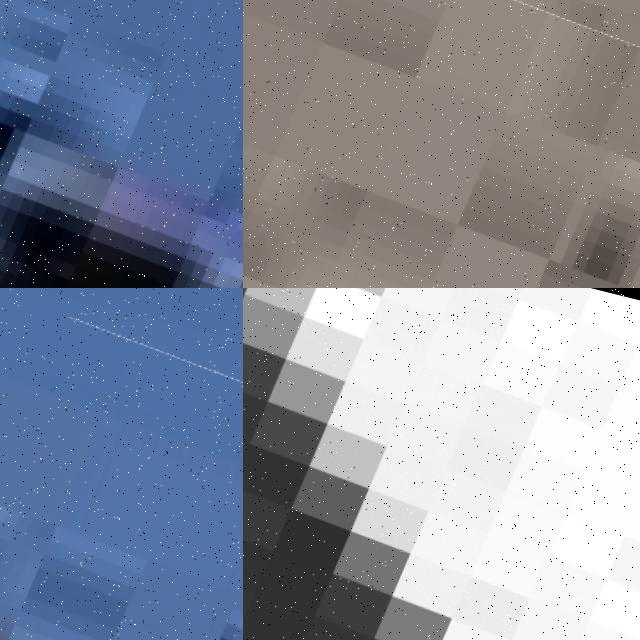0: (243, 0, 640, 288), (0, 288, 243, 640), (0, 0, 243, 288)
drone: (243, 288, 640, 640)
